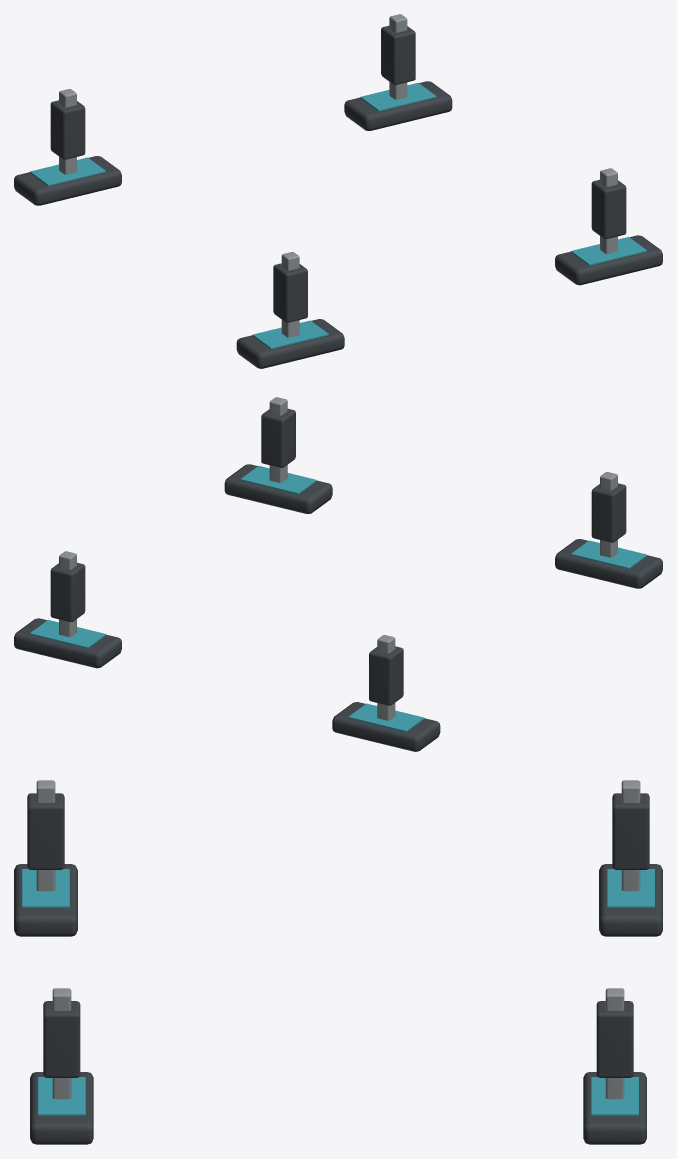
Rendered from SM_OrionExchange_Gear.fbx.
The picture shows the model from 3 angles, top to bottom: view 1: azimuth 30°, elevation 25°; view 2: azimuth 150°, elevation 25°; view 3: azimuth 270°, elevation 25°; orthographic projection. The views are drawn at different scales.
Visible parts, largest first — view 1: SM_OrionExchange_Gear.001; view 2: SM_OrionExchange_Gear.001; view 3: SM_OrionExchange_Gear.001.
Part boxes in pixels (box(x1,y1,x2,y2)): SM_OrionExchange_Gear.001: box(14, 14, 662, 368); SM_OrionExchange_Gear.001: box(14, 397, 662, 751); SM_OrionExchange_Gear.001: box(14, 780, 662, 1144).
Size of the model in its own units: 23500 by 24400 by 5300.
